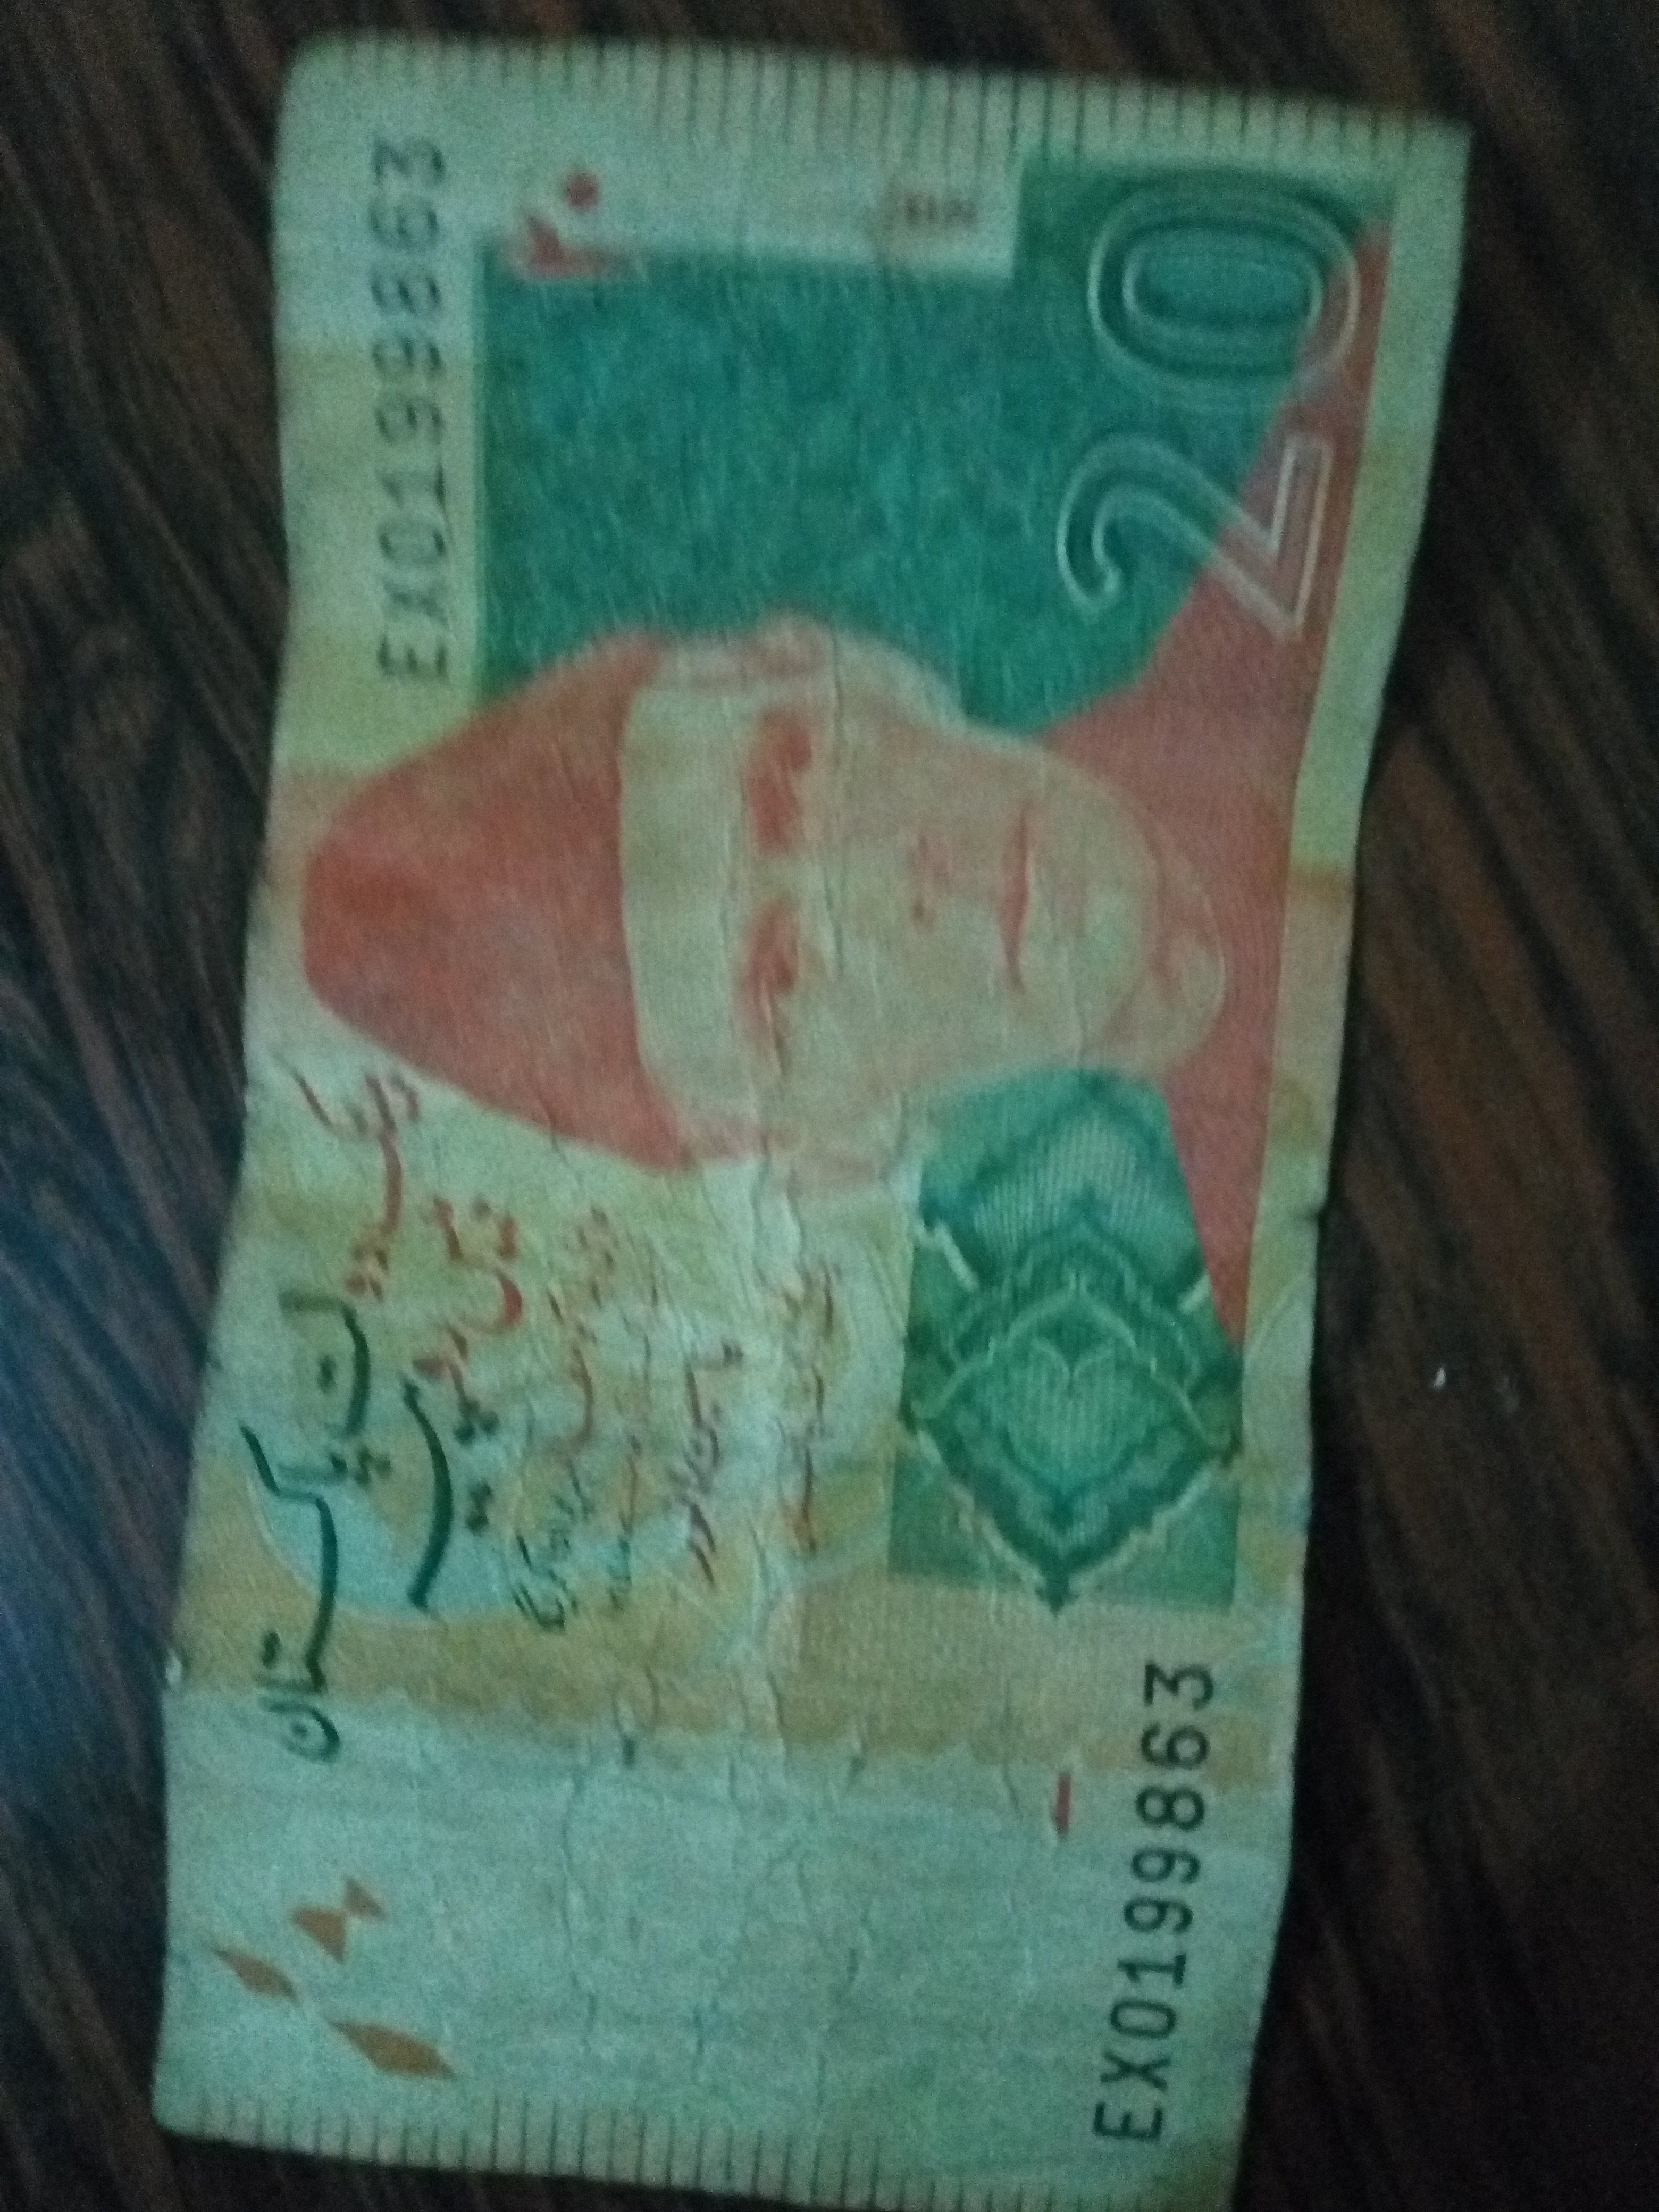20 rupee: (85, 56, 1535, 2212)
